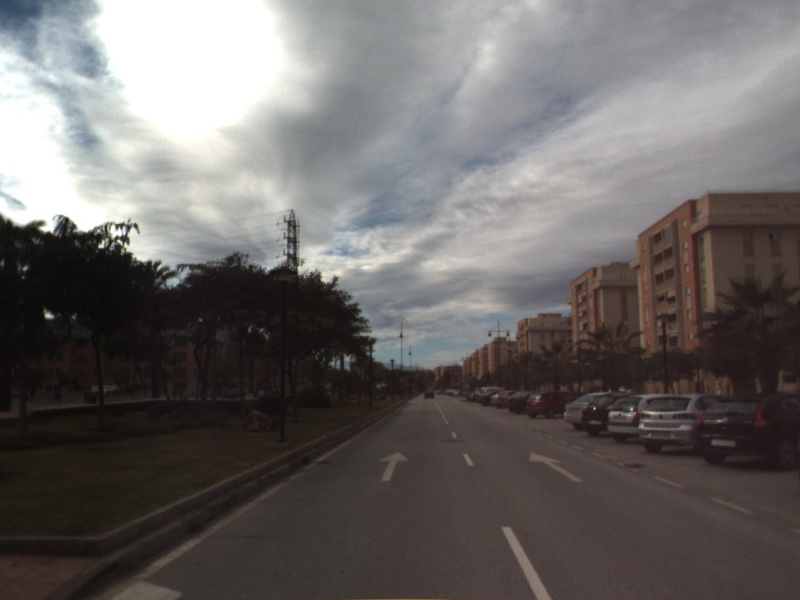STRAIGHT: (528, 450, 586, 484), (376, 449, 413, 483)
